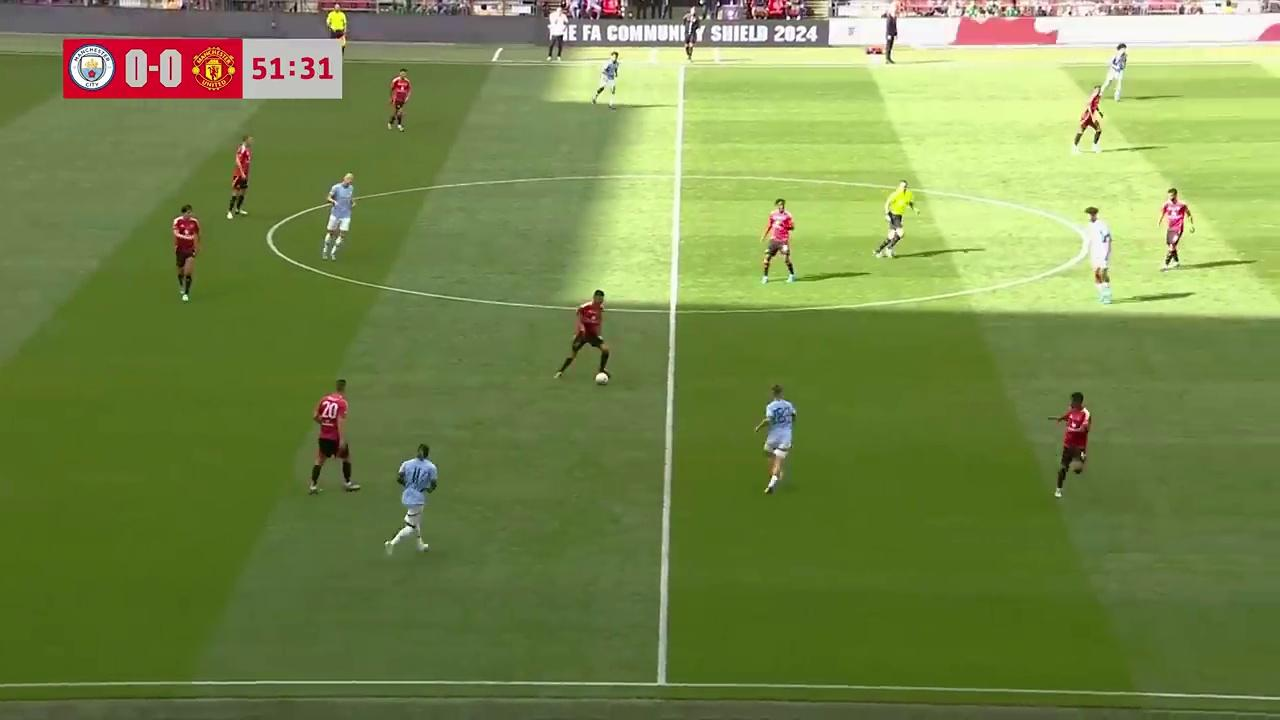ball: (594, 369, 609, 385)
player: (307, 379, 359, 495), (385, 444, 437, 557), (553, 288, 612, 385), (753, 383, 797, 495), (1050, 391, 1093, 499), (760, 198, 796, 284), (321, 172, 355, 260), (1157, 187, 1193, 270), (1082, 207, 1113, 303), (172, 204, 202, 302), (1071, 85, 1104, 154), (226, 135, 252, 218), (386, 69, 411, 131), (1102, 43, 1128, 101), (593, 52, 620, 107)
referee: (874, 180, 918, 258)
